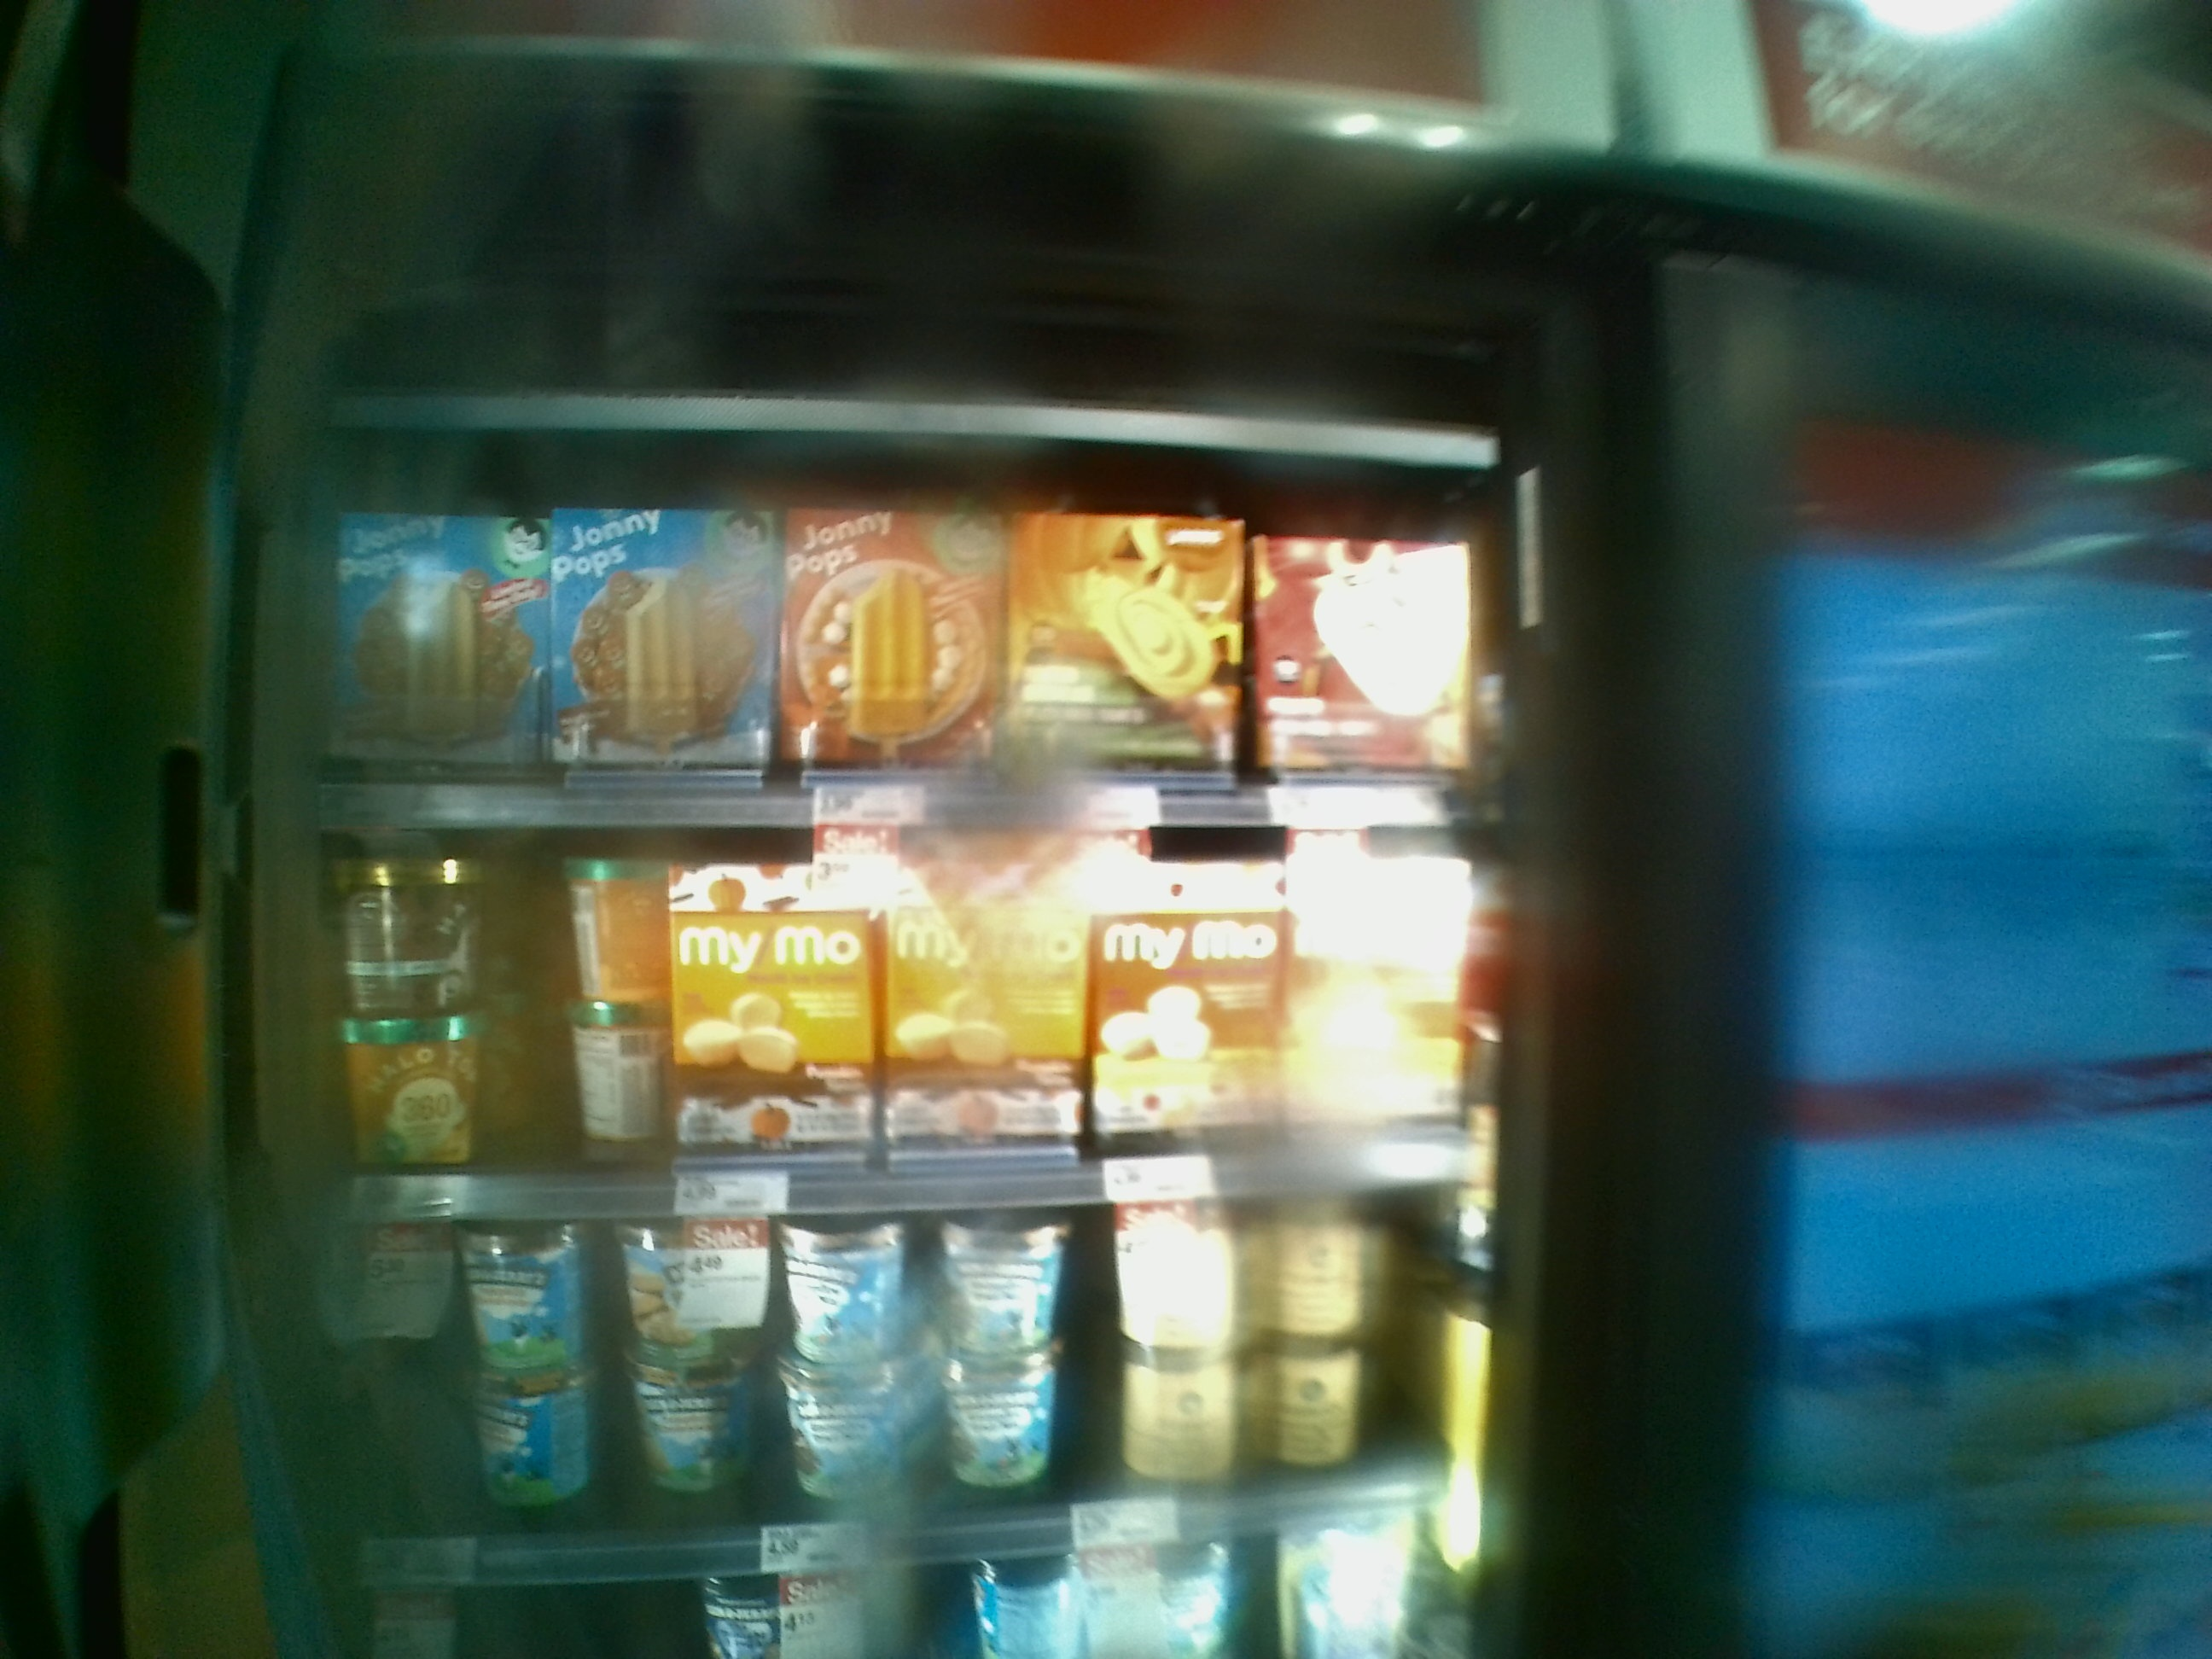shelf: (289, 432, 1531, 838), (273, 821, 1508, 1220), (286, 1202, 1465, 1581)
